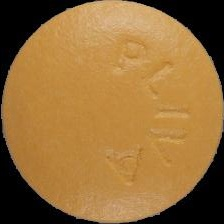66116-527: (0, 0, 224, 224)
